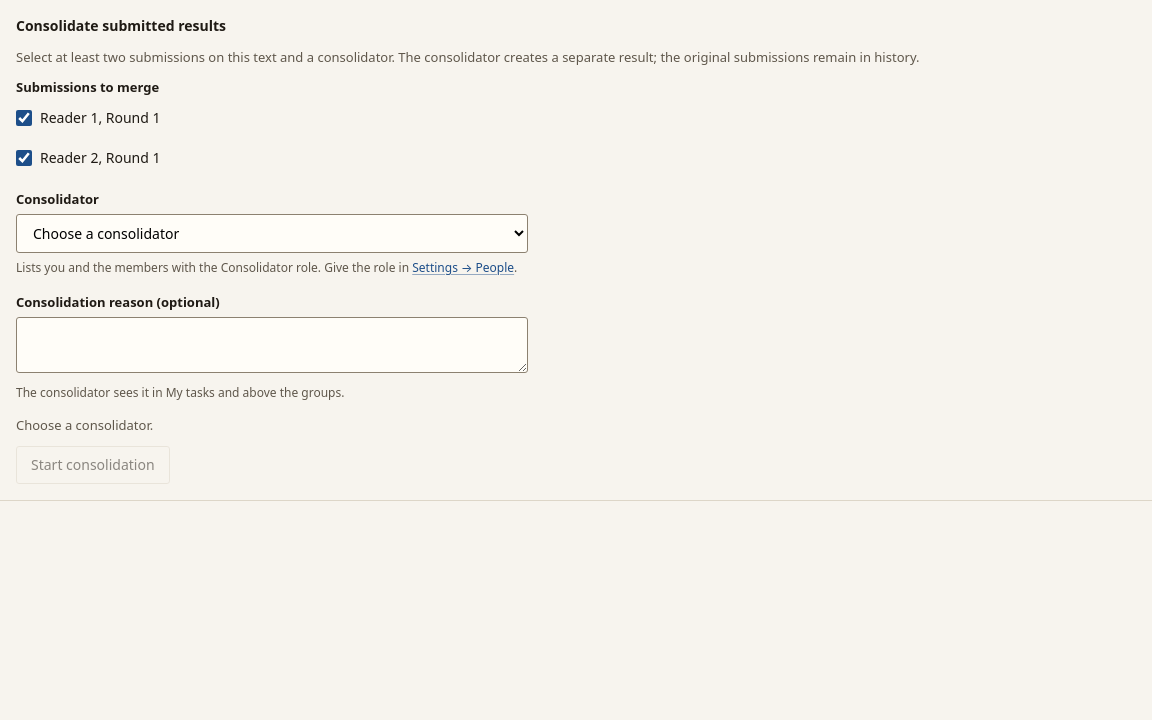
Test: keeps the inputs after a refusal and words a stale input
The width and height of the screenshot is (1152, 720).
Select "Luc Martin (ann-0004)" in the dropdown labelled "Consolidator" at [272, 234], box [16, 214, 528, 253]
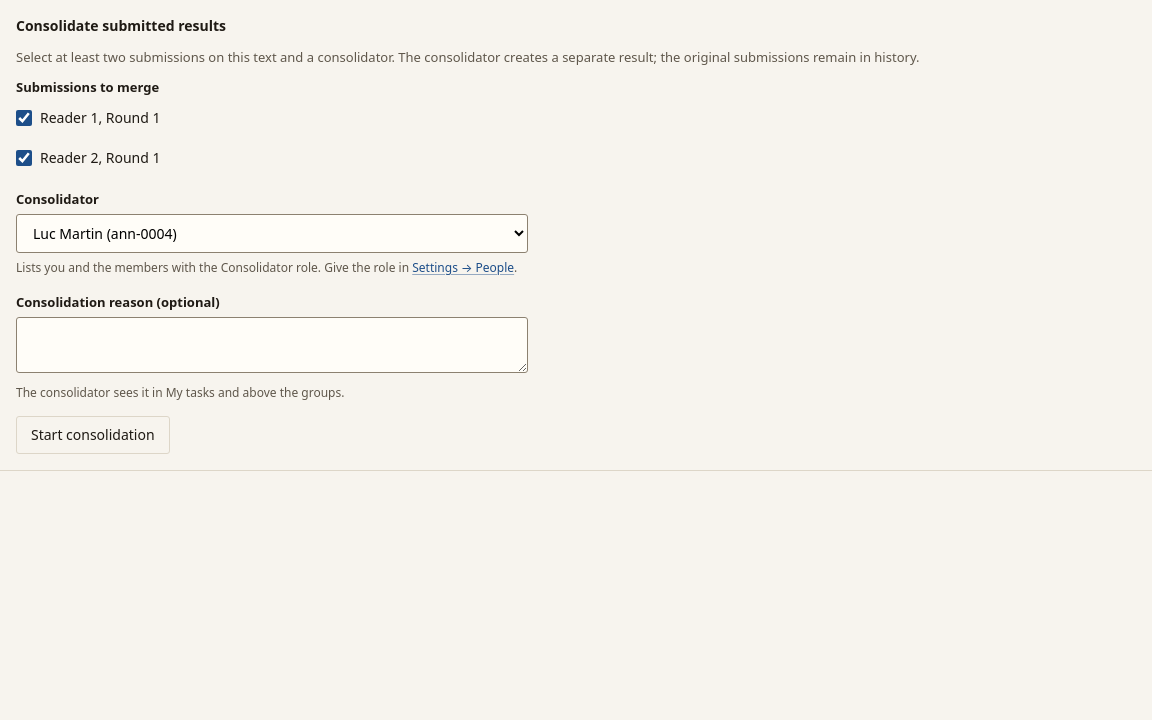
Click the button "Start consolidation" at [93, 435], box [16, 416, 170, 454]
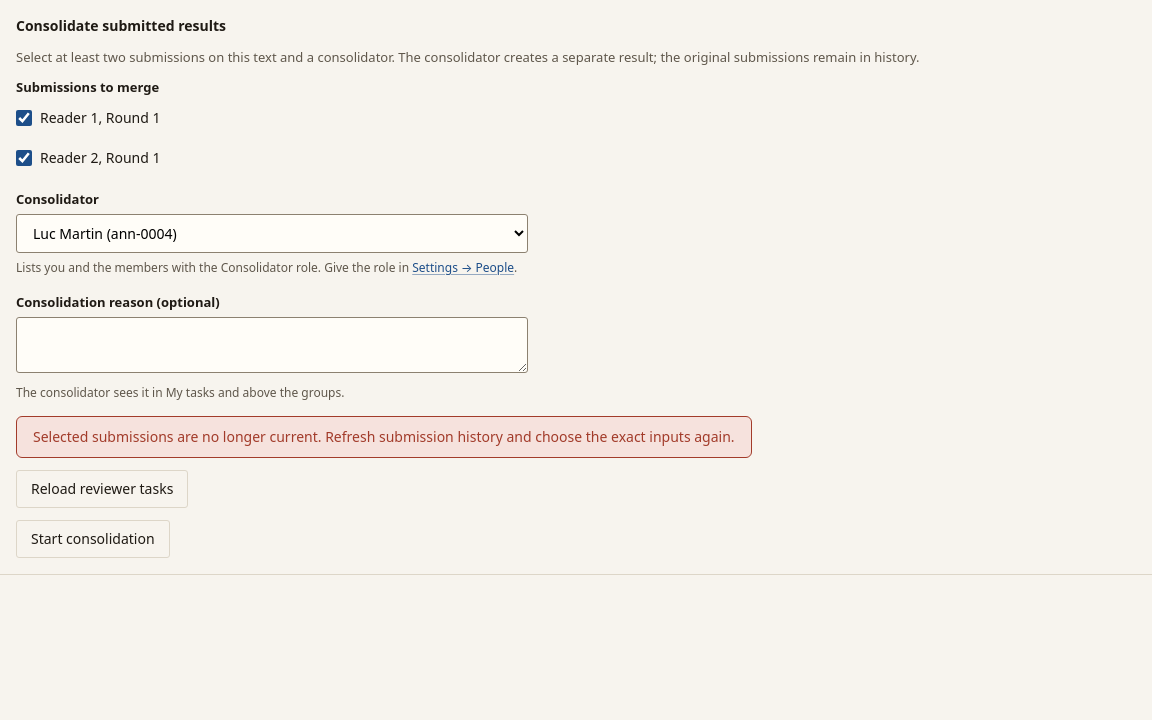
Expected: the checkbox labelled "Reader 1, Round 1" is checked, [16, 110, 32, 126]
Expected: the text "Selected submissions are no longer current" is shown, [33, 427, 735, 446]
